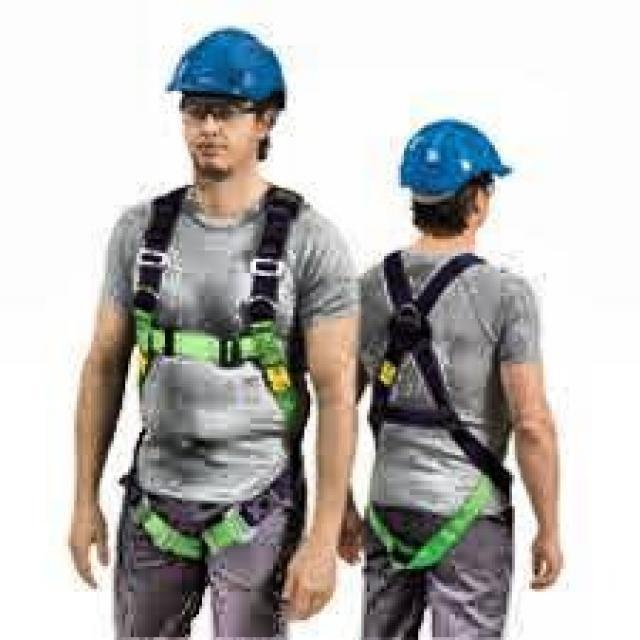Arnes_seguridad: (112, 180, 308, 564), (350, 232, 525, 584)
